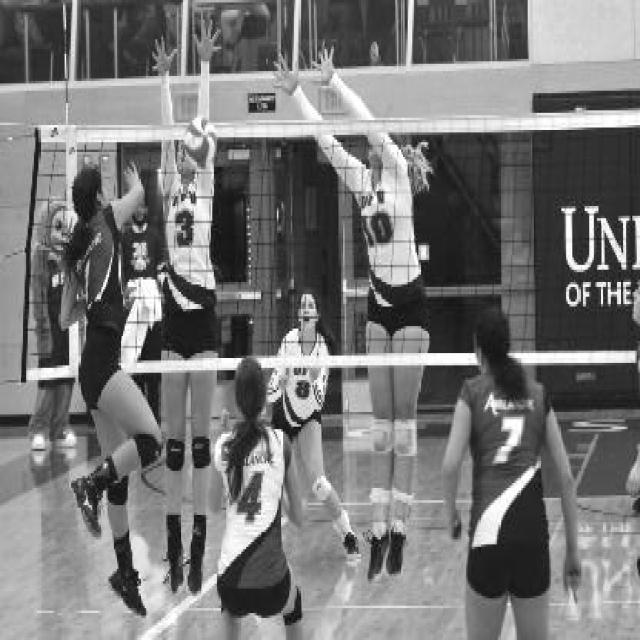volleyball: (185, 118, 219, 168)
